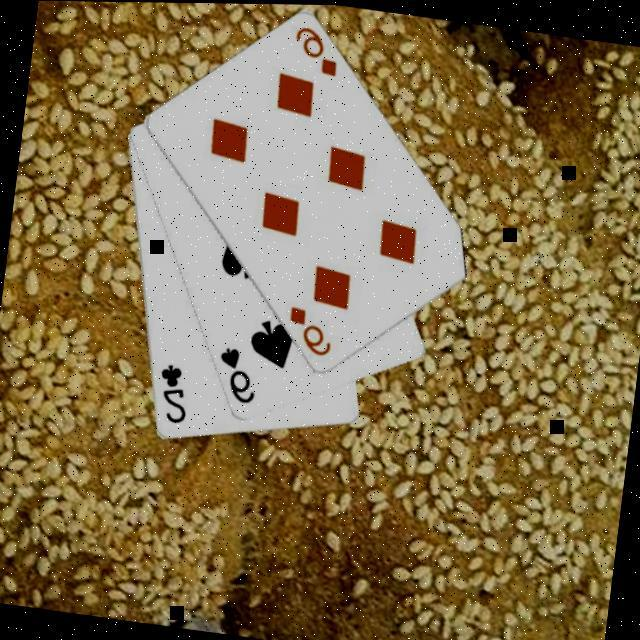2C: (151, 361, 195, 430)
6D: (288, 22, 345, 82), (282, 303, 339, 362)
6S: (212, 344, 264, 410)
